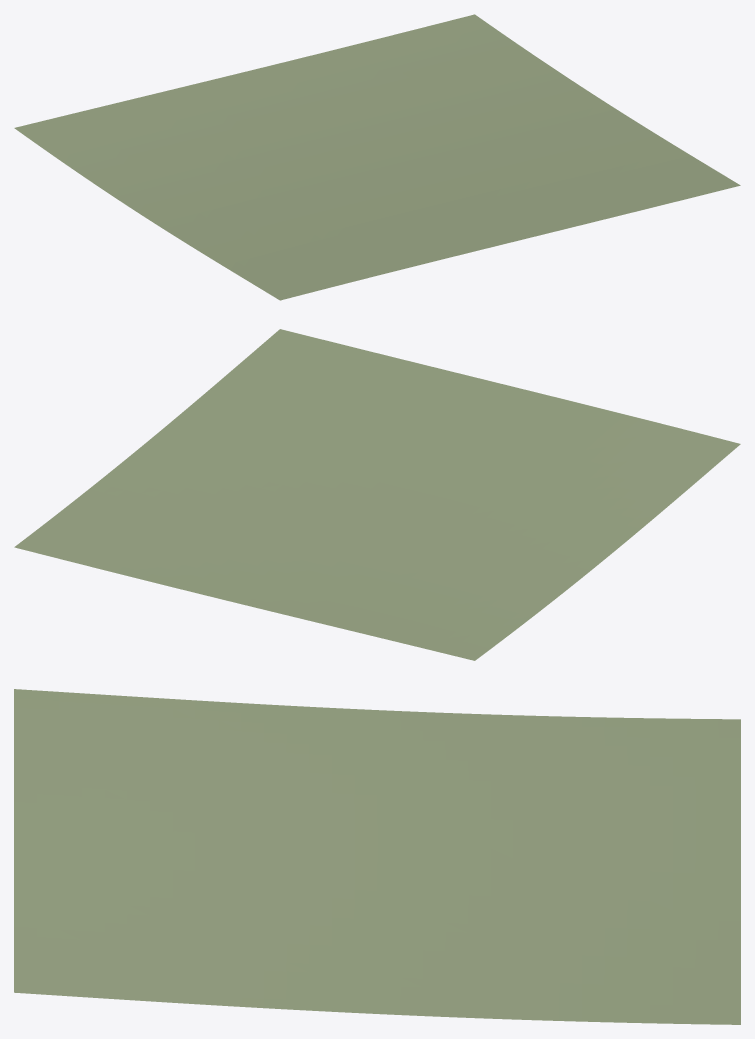
Rendered from desert-22-21.glb.
3 renders of one model, top to bottom at view 1: azimuth 30°, elevation 25°; view 2: azimuth 150°, elevation 25°; view 3: azimuth 270°, elevation 25°, orthographic. The views are drawn at different scales.
Parts seen in each view (by area): view 1: desert-22-21; view 2: desert-22-21; view 3: desert-22-21.
Part boxes in pixels (x1,y1,x2,y2): desert-22-21: (14, 14, 740, 300); desert-22-21: (14, 329, 740, 660); desert-22-21: (14, 689, 740, 1024).
Bounding box in the file's own units: 512 × 26.52 × 512.
